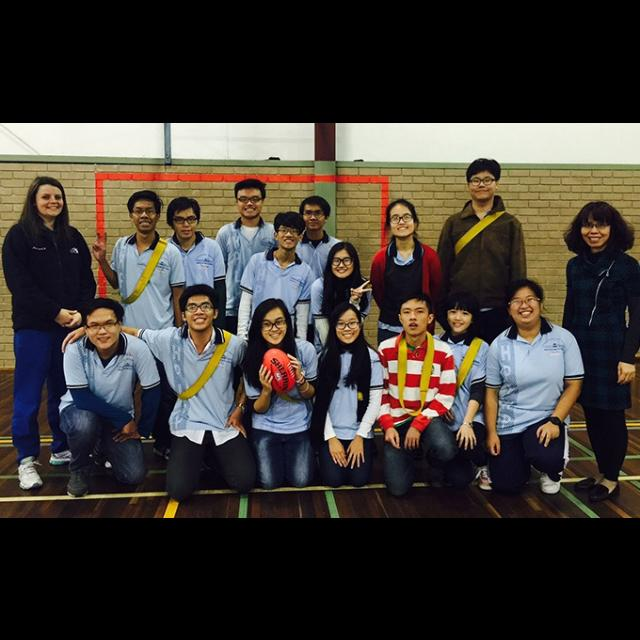head: (82, 299, 126, 351), (578, 201, 616, 249), (182, 285, 220, 331), (507, 279, 545, 325), (398, 292, 437, 336), (257, 300, 291, 344), (167, 197, 201, 240), (443, 292, 477, 334), (128, 193, 162, 235), (235, 177, 268, 220), (33, 176, 65, 218), (272, 212, 306, 250), (468, 161, 500, 201), (387, 198, 419, 238), (336, 305, 364, 345), (330, 239, 358, 279), (302, 195, 331, 231)
person: (61, 280, 262, 504), (0, 174, 100, 492), (89, 187, 193, 468), (434, 154, 532, 412), (482, 274, 588, 498), (58, 294, 164, 500), (236, 208, 324, 440), (150, 193, 232, 439), (210, 174, 290, 426), (368, 194, 448, 438), (373, 290, 462, 500), (277, 192, 349, 436), (418, 286, 498, 494), (238, 294, 322, 490), (306, 300, 386, 490), (308, 238, 376, 452)
